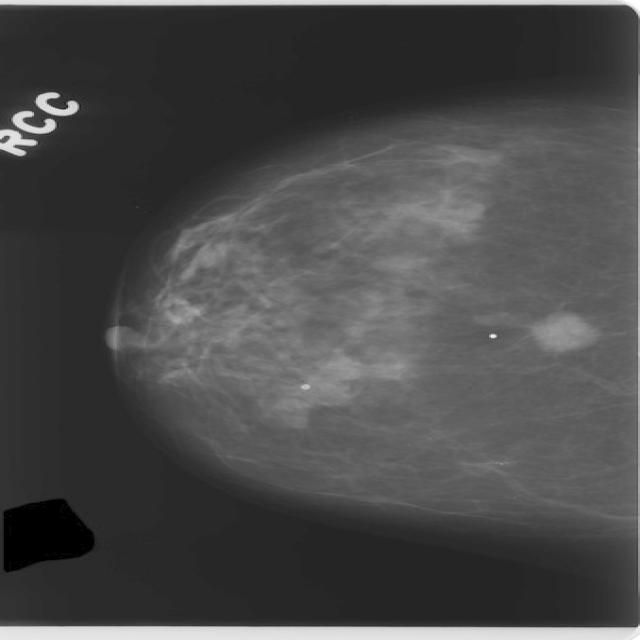tumour: (528, 309, 594, 352)
